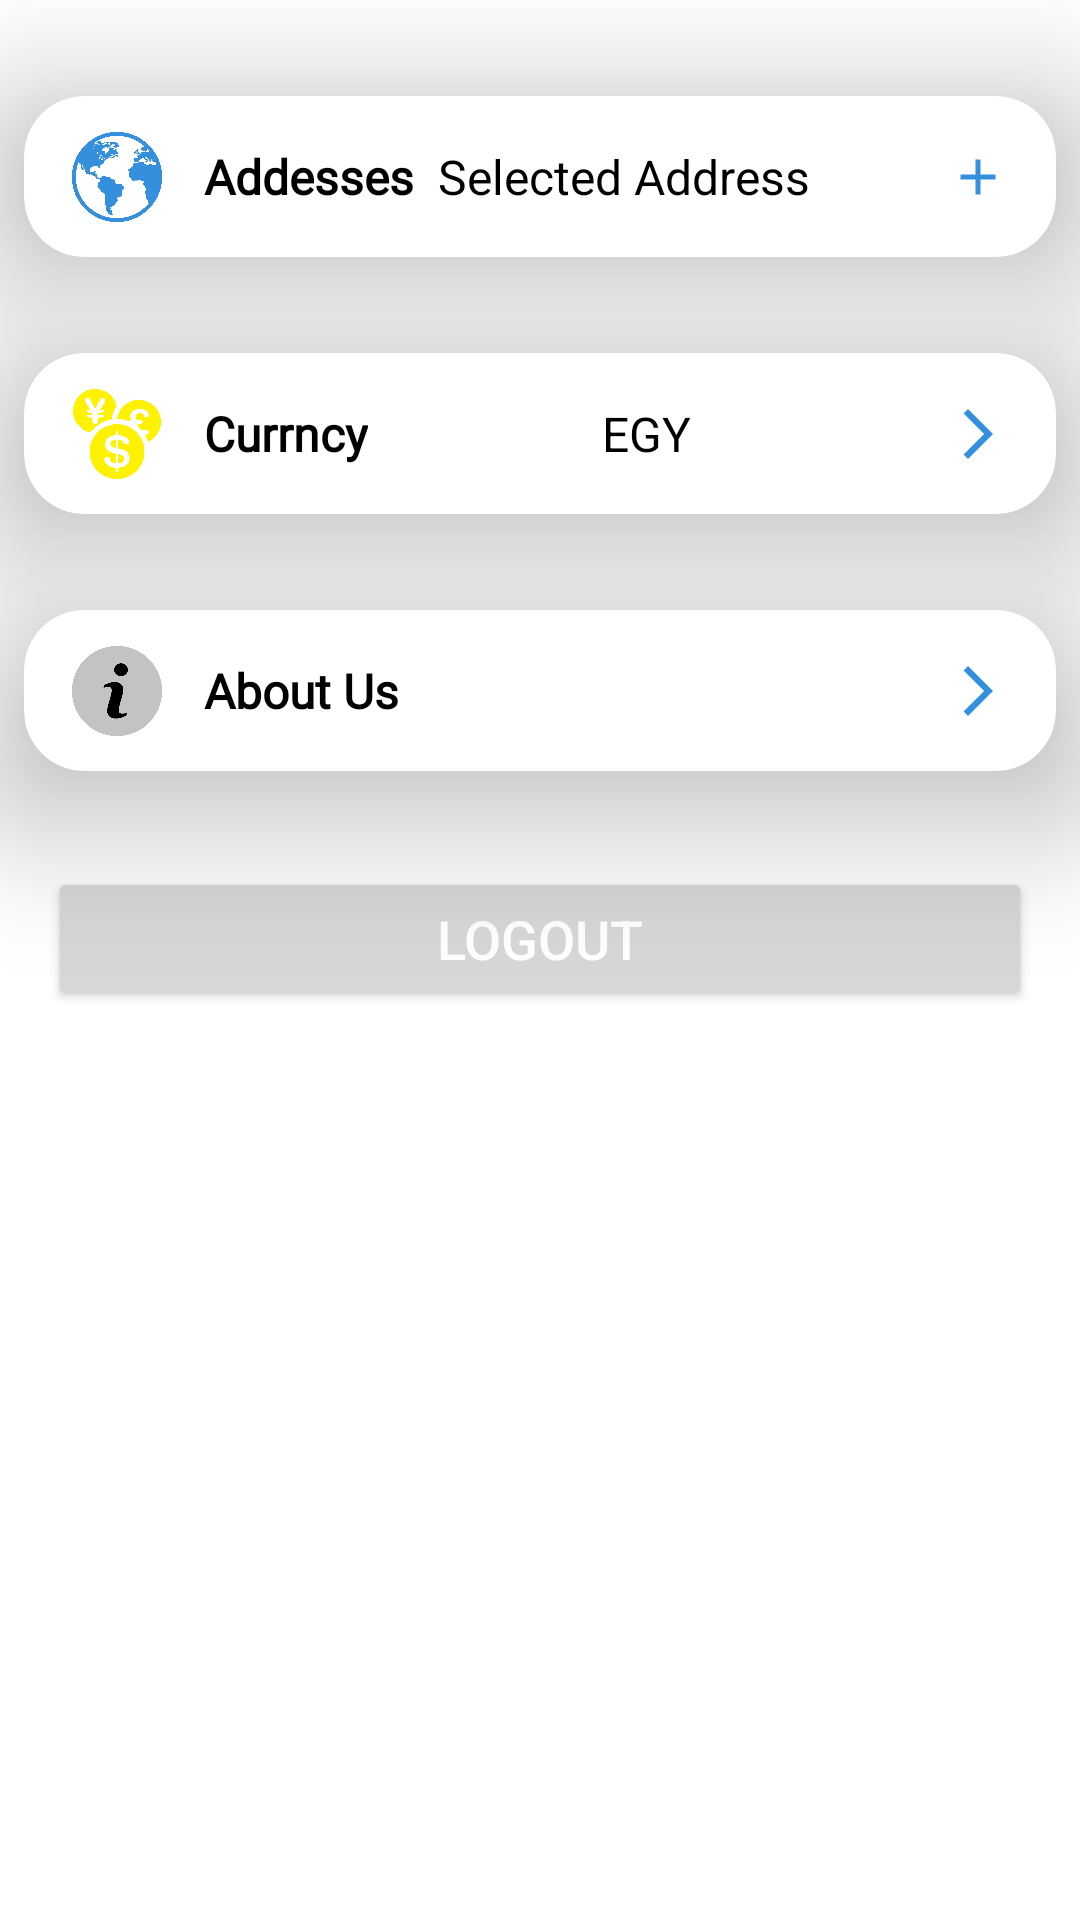

Screen size 1080px x 1920px. Icon name, then its box in pixels as (x1, y1, x2, y2):
add: (960, 159, 996, 195)
arrow forward: (963, 409, 993, 459), (963, 666, 993, 716)
currencies: (73, 389, 161, 479)
earth: (72, 132, 162, 222)
information: (72, 646, 162, 736)
